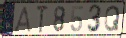3: (87, 4, 103, 34)
5: (70, 5, 85, 33)
8: (53, 6, 66, 33)
A: (13, 5, 32, 33)
Q: (103, 5, 121, 33)
T: (36, 5, 50, 34)
